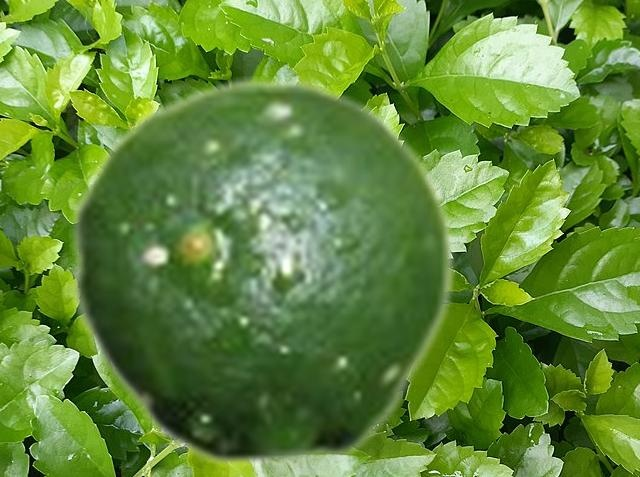calamansi: (69, 76, 457, 469)
